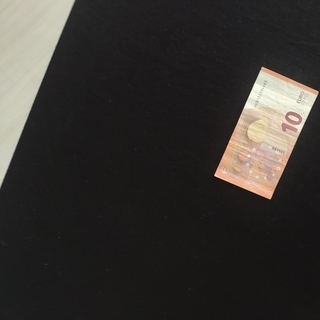10EUROBack: (213, 66, 319, 200)
